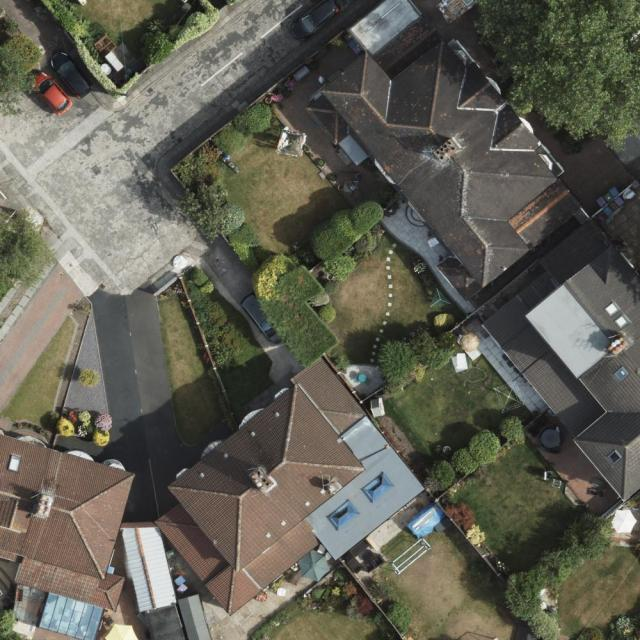roof: (0, 355, 426, 640), (303, 0, 584, 305), (479, 218, 640, 504)
skylight: (39, 590, 104, 640), (324, 500, 363, 536), (361, 471, 396, 504), (7, 452, 24, 474), (604, 300, 620, 318), (607, 448, 622, 465), (616, 313, 630, 330), (615, 366, 628, 382)
